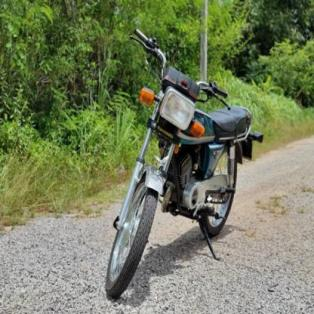Motocicleta: (104, 24, 260, 299)
